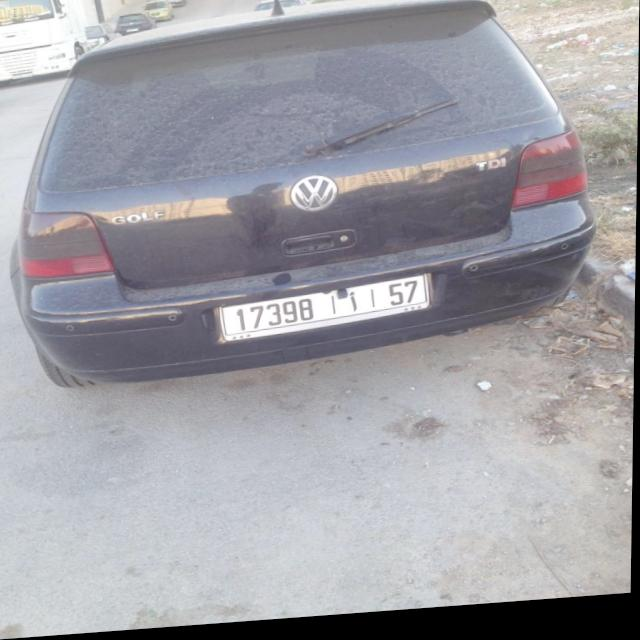License-Plate: (220, 282, 431, 344)
